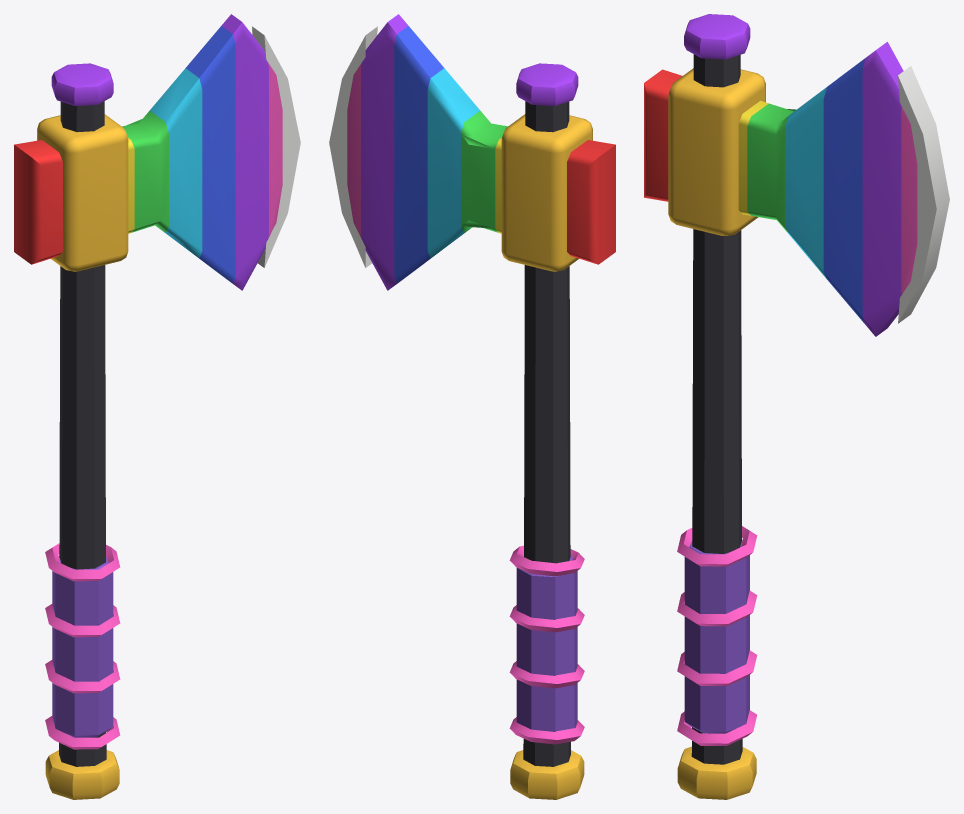
Rendered from RainbowAxe.fbx.
The picture shows the model from 3 angles, left to right: view 1: azimuth 30°, elevation 25°; view 2: azimuth 150°, elevation 25°; view 3: azimuth 330°, elevation 25°; orthographic projection. The views are drawn at different scales.
Parts seen in each view (by area): view 1: RainbowAxe; view 2: RainbowAxe; view 3: RainbowAxe.
Boxes of the visible parts, bbox=[...] form: RainbowAxe: bbox=[14, 14, 300, 799]; RainbowAxe: bbox=[329, 14, 615, 799]; RainbowAxe: bbox=[644, 14, 949, 799].
Size of the model in its own units: 1.27 by 3.27 by 0.3129.
Materials: 1 (1 with a texture image).
